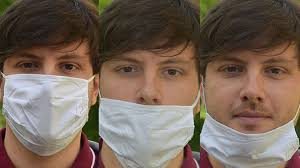mask_weared_incorrect: (104, 53, 197, 163), (211, 53, 295, 164)
with_mask: (9, 47, 91, 143)
